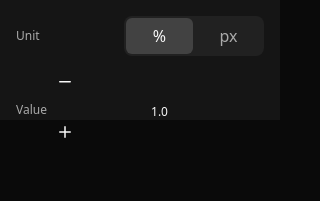
Test case: UnitInput Component › Unit Switching Behavior › should update value to 100 when switching from px to % with value > 100
Click the button "px" at (228, 36), box [195,18,262,54]
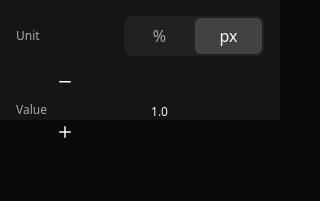
Replace the text in the field with "250" at (160, 112), box [55,102,264,122]
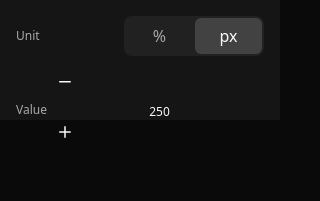
# Switch to percent mode
Click the button "%" at (160, 36), box [126,18,193,54]
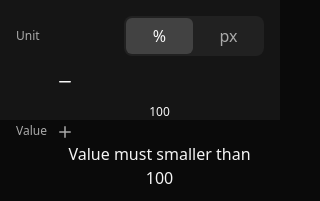
Check: the field holds "100", box [55,102,264,122]
